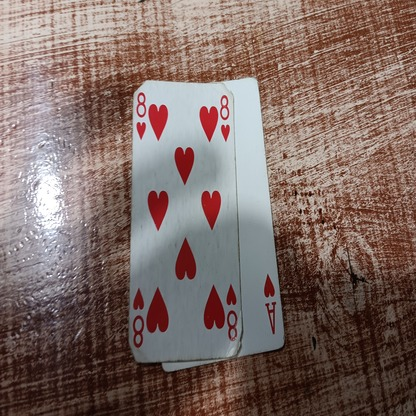8h: (132, 288, 145, 349), (134, 88, 149, 139), (226, 283, 238, 341), (219, 95, 230, 142)
Ah: (262, 274, 280, 337)
